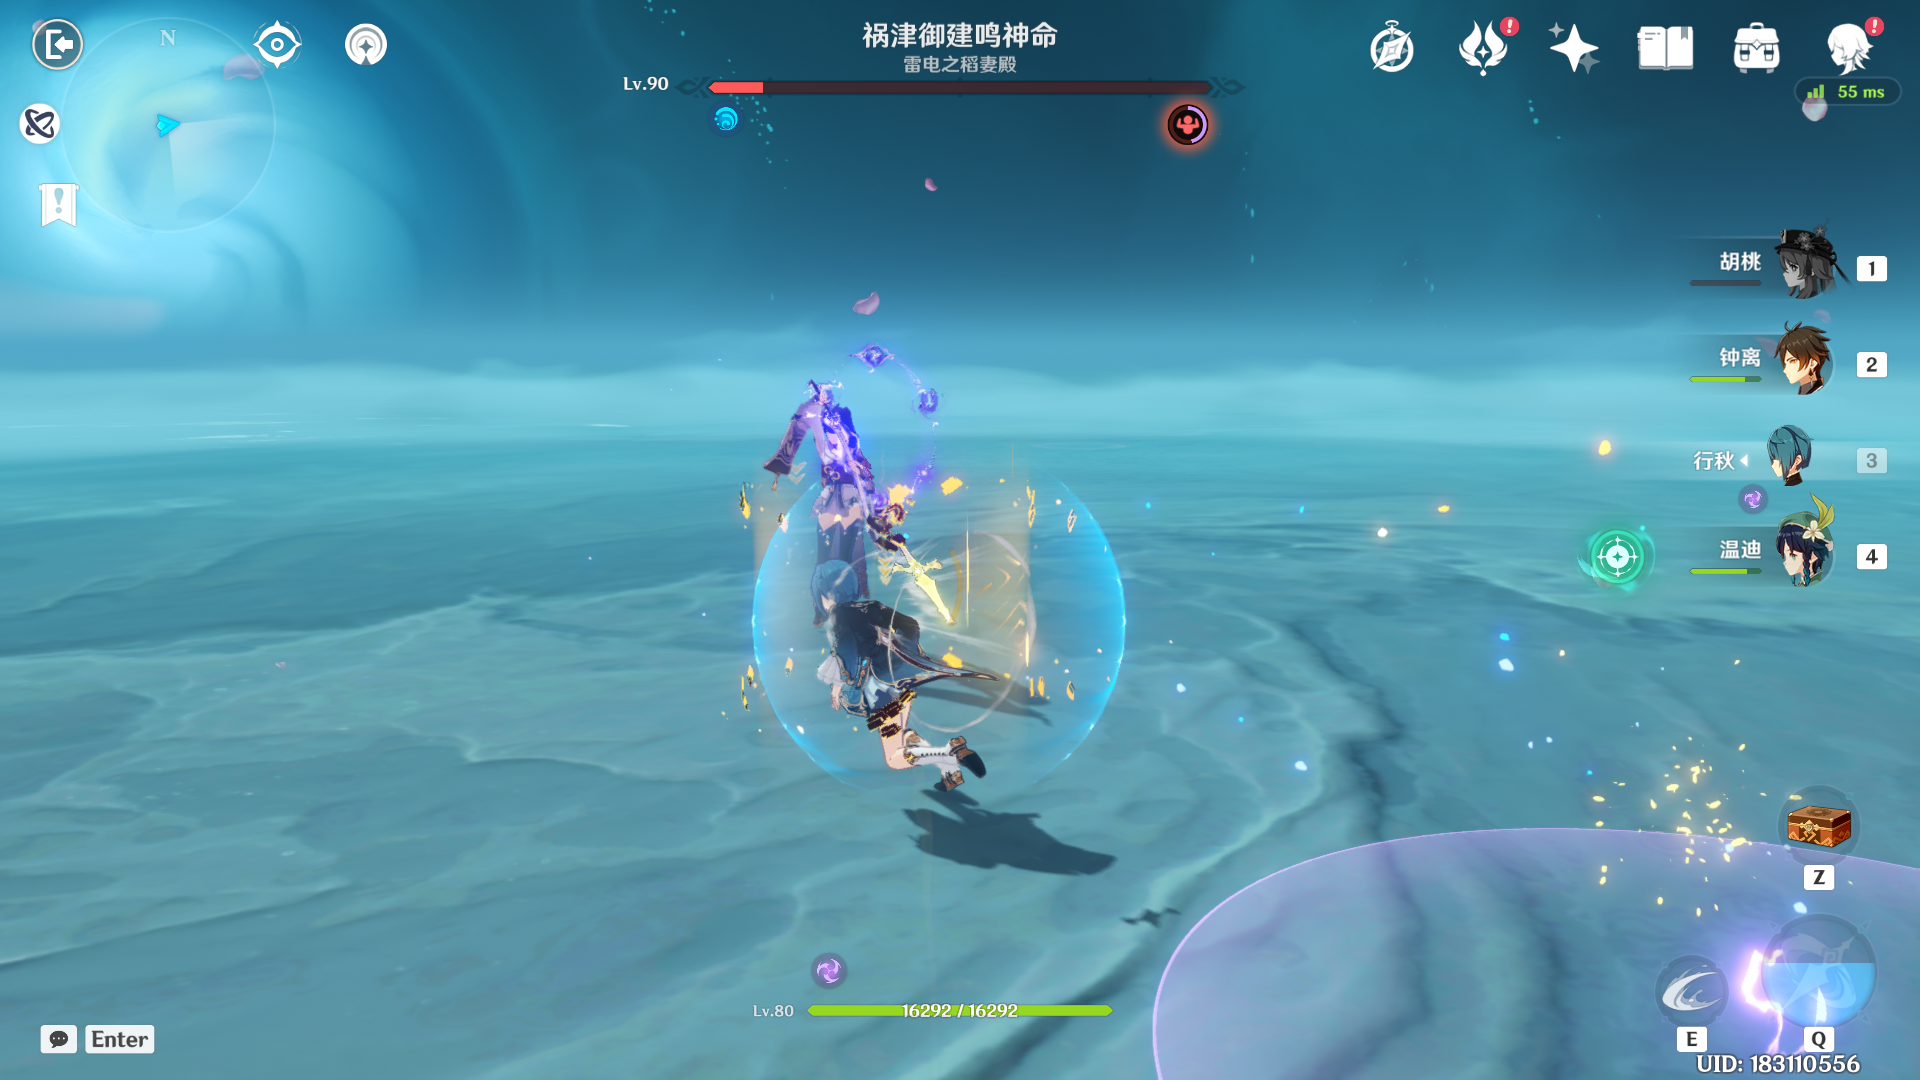character: (758, 537, 1069, 828), (729, 335, 919, 676)
